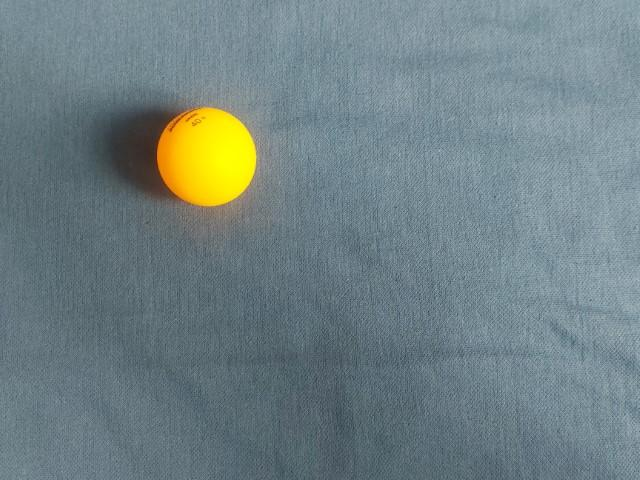oball: (378, 269, 488, 378)
